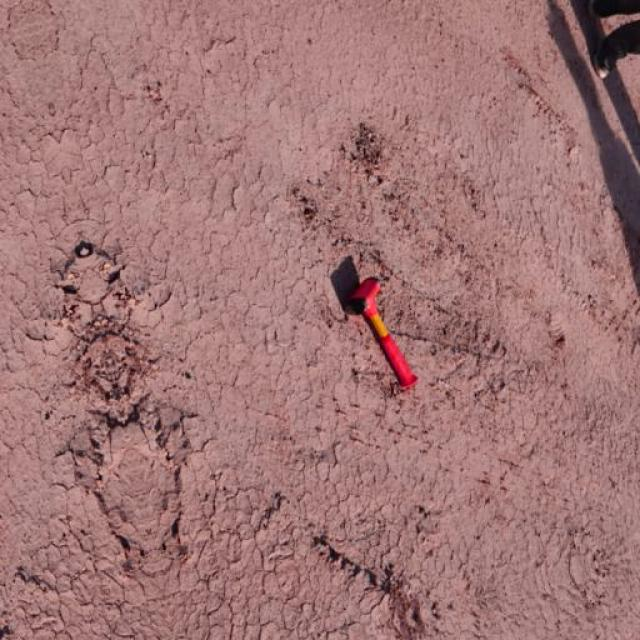mallet: (329, 254, 419, 390)
